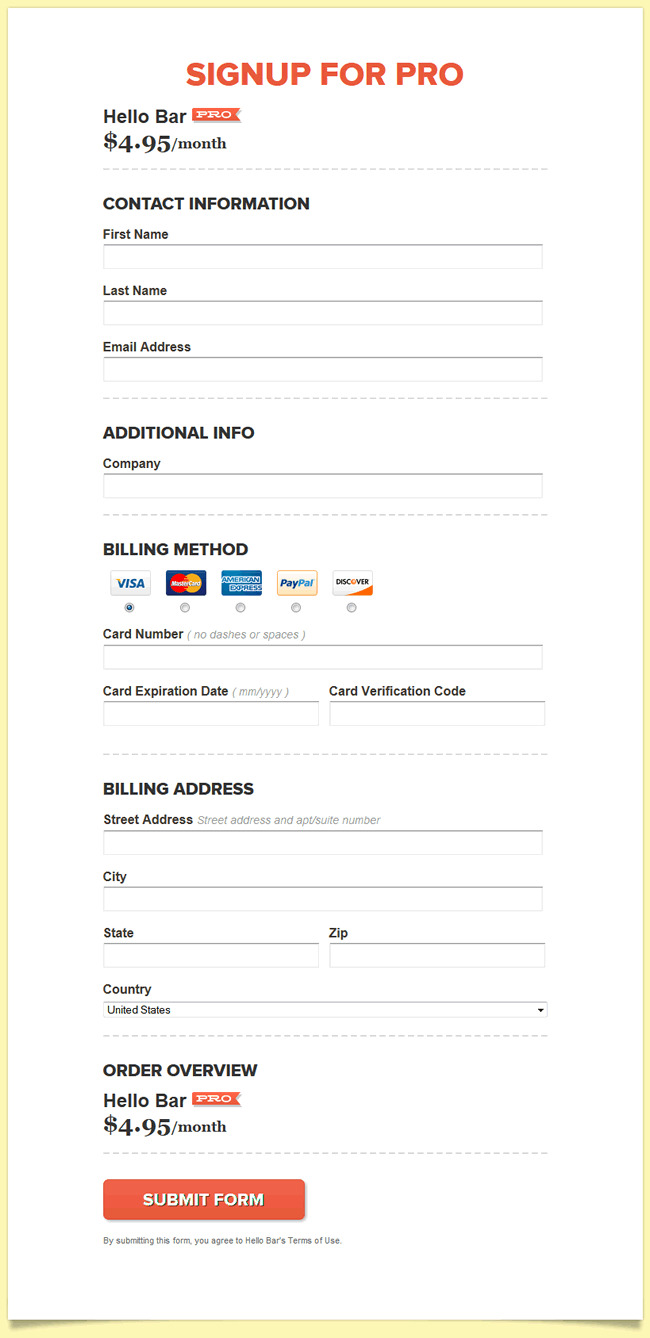_form_: (73, 215, 566, 513), (88, 975, 567, 1272), (84, 765, 571, 1053), (74, 455, 564, 738)
button: (103, 1177, 307, 1221)
field: (96, 241, 544, 274), (101, 643, 546, 671), (100, 829, 546, 856), (100, 299, 545, 326), (96, 472, 544, 498), (99, 887, 546, 912), (99, 355, 545, 380), (102, 1000, 548, 1020), (328, 699, 547, 728), (104, 699, 321, 727), (100, 941, 321, 968), (329, 941, 546, 968)
field_with_label: (94, 228, 548, 276), (98, 812, 550, 859), (98, 628, 550, 674), (91, 458, 547, 502), (96, 284, 548, 328), (96, 340, 548, 384), (97, 872, 549, 916), (99, 983, 550, 1023), (326, 685, 549, 731), (101, 685, 322, 730), (327, 926, 548, 970), (98, 928, 323, 969)
radio: (123, 600, 136, 614), (346, 600, 359, 614), (290, 601, 303, 613), (178, 602, 190, 613), (233, 601, 244, 612)
